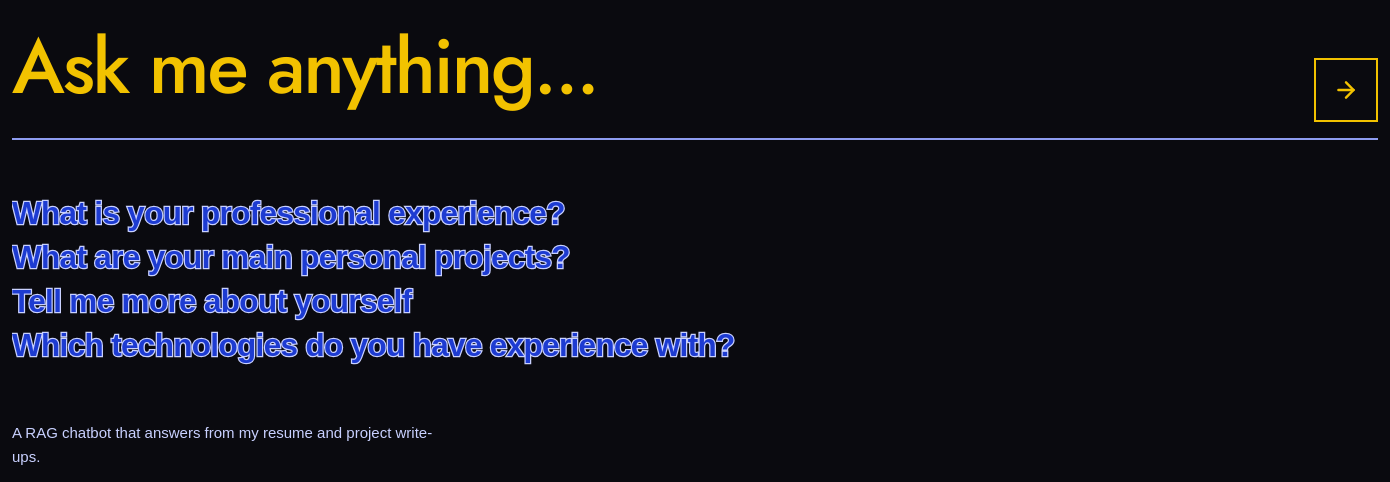
Test: asking a short question › a suggested question can be asked with one click
The image size is (1390, 482).
Click the button "What are your main personal projects?". click: (291, 258)
box: [12,240,570,276]
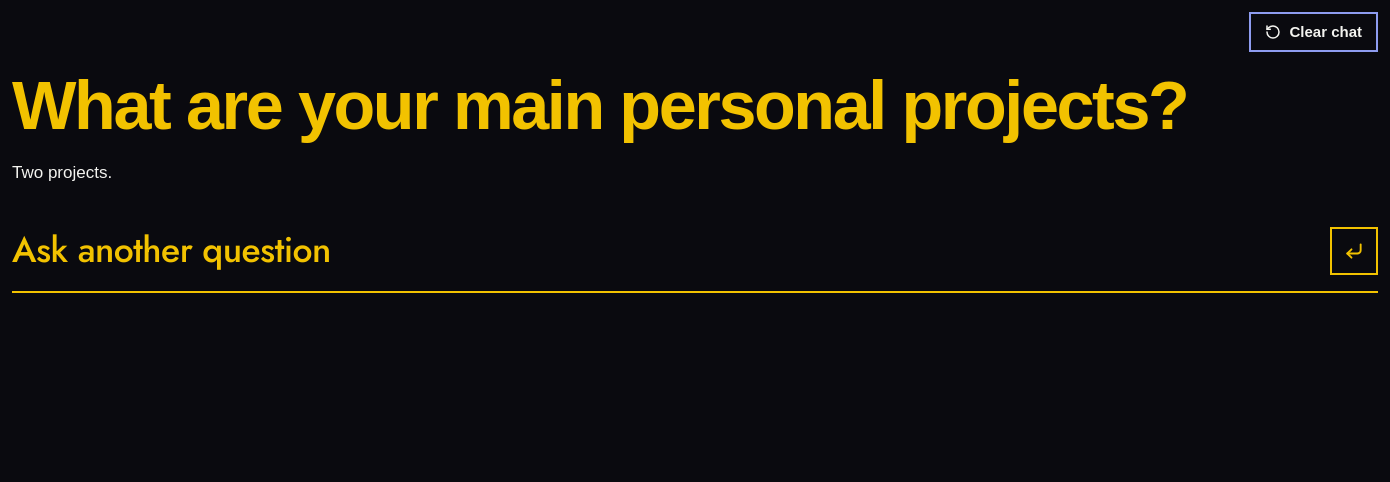
Expected: the heading "What are your main personal projects?" is shown, [12,72,1378,139]
Now the text "Two projects." is shown, box [12,163,112,182]
